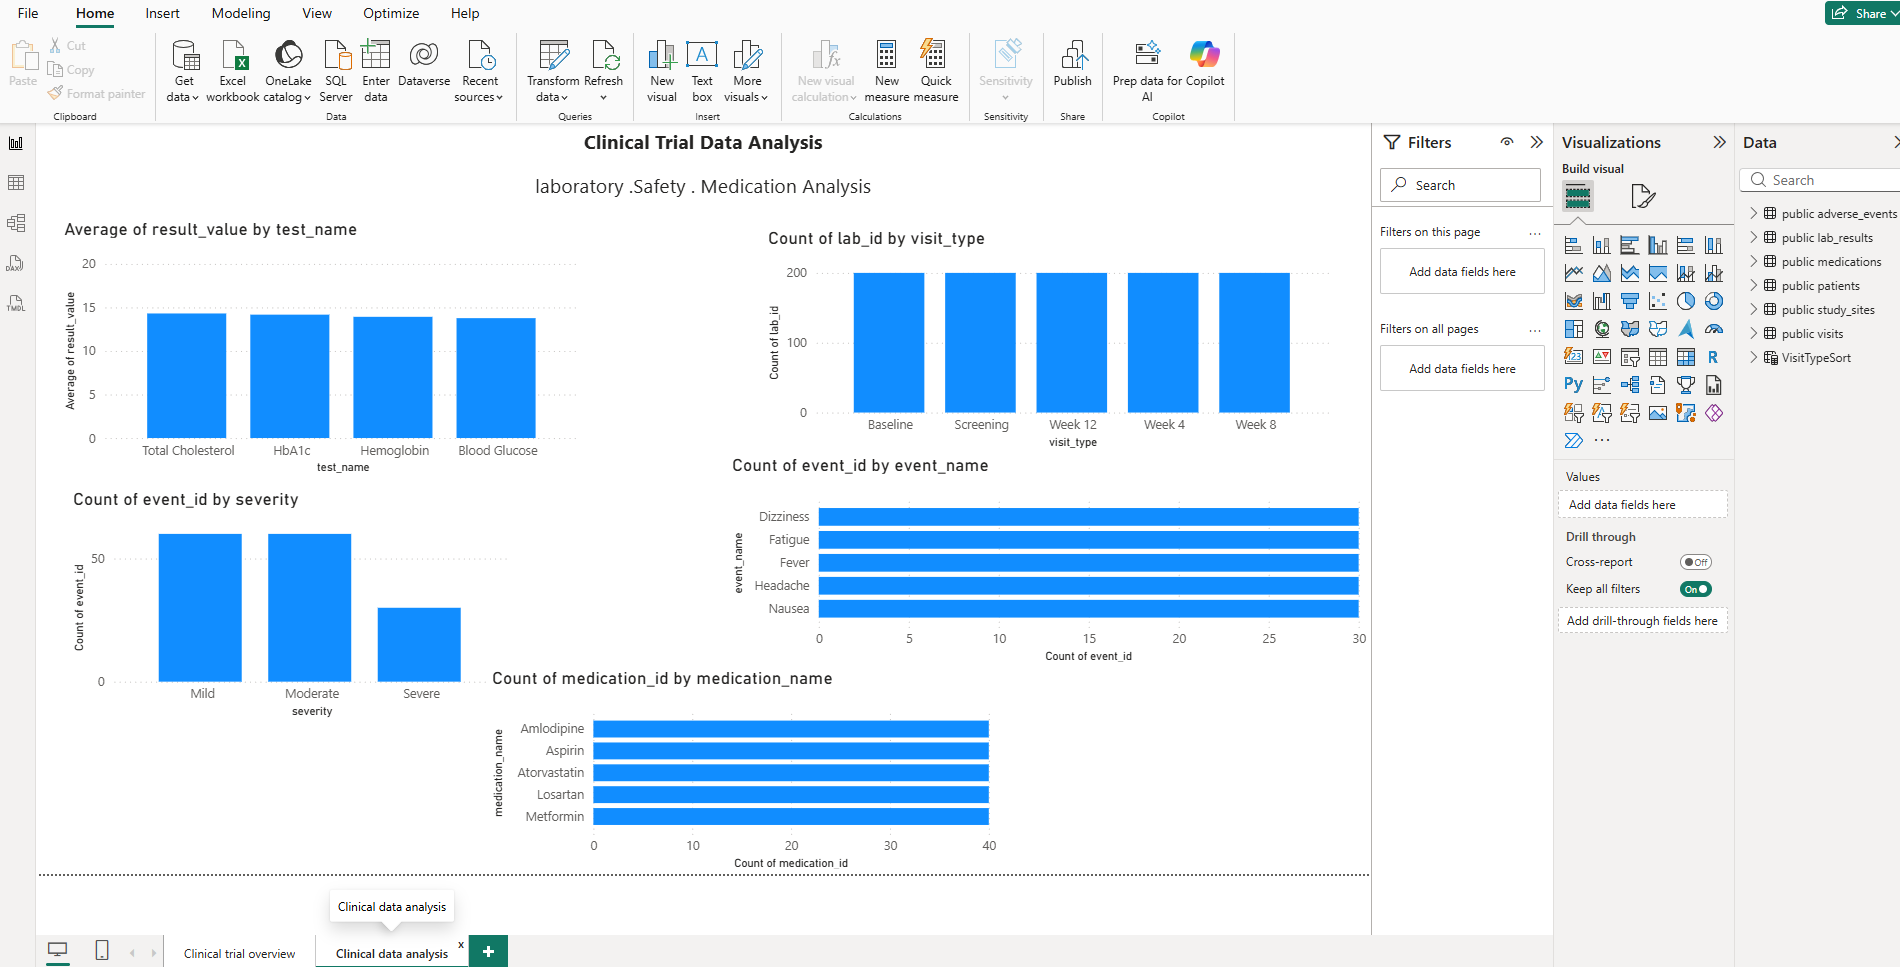

This screenshot's page, from the dashboard's own definition file:
{"tool":"powerbi","page":{"name":"Clinical data analysis","canvas":[1280,720],"ordinal":1},"visuals":[{"type":"clusteredColumnChart","fields":{"Category":["public lab_results.test_name"],"Y":["Avg(public lab_results.result_value)"]},"box":[22.1,91.1,504.8,250],"z":0},{"type":"clusteredColumnChart","fields":{"Category":["public lab_results.visit_type"],"Y":["CountNonNull(public lab_results.lab_id)"]},"box":[697,99.7,547.6,216.9],"z":1},{"type":"clusteredColumnChart","fields":{"Category":["public adverse_events.severity"],"Y":["CountNonNull(public adverse_events.event_id)"]},"box":[31.1,350.2,428,224.7],"z":2},{"type":"clusteredBarChart","fields":{"Category":["public adverse_events.event_name"],"Y":["CountNonNull(public adverse_events.event_id)"]},"box":[662.5,317.4,617.6,204.3],"z":3},{"type":"clusteredBarChart","fields":{"Category":["public medications.medication_name"],"Y":["CountNonNull(public medications.medication_id)"]},"box":[432.4,521.6,493.1,198.4],"z":4},{"type":"textbox","box":[420.2,0,439.6,100.2],"z":6}]}

Visuals, with their boxes on the page's 1280x720 design canvas (x1, y1, x2, y2). These are canvas units, not pixel positions in the 1900x967 screenshot, which may show the page scaled, cropped or inside an application window:
clusteredColumnChart - public lab_results.test_name x Avg(public lab_results.result_value): x1=22 y1=91 x2=527 y2=341
clusteredColumnChart - public lab_results.visit_type x CountNonNull(public lab_results.lab_id): x1=697 y1=100 x2=1245 y2=317
clusteredColumnChart - public adverse_events.severity x CountNonNull(public adverse_events.event_id): x1=31 y1=350 x2=459 y2=575
clusteredBarChart - public adverse_events.event_name x CountNonNull(public adverse_events.event_id): x1=662 y1=317 x2=1280 y2=522
clusteredBarChart - public medications.medication_name x CountNonNull(public medications.medication_id): x1=432 y1=522 x2=926 y2=720
textbox: x1=420 y1=0 x2=860 y2=100
